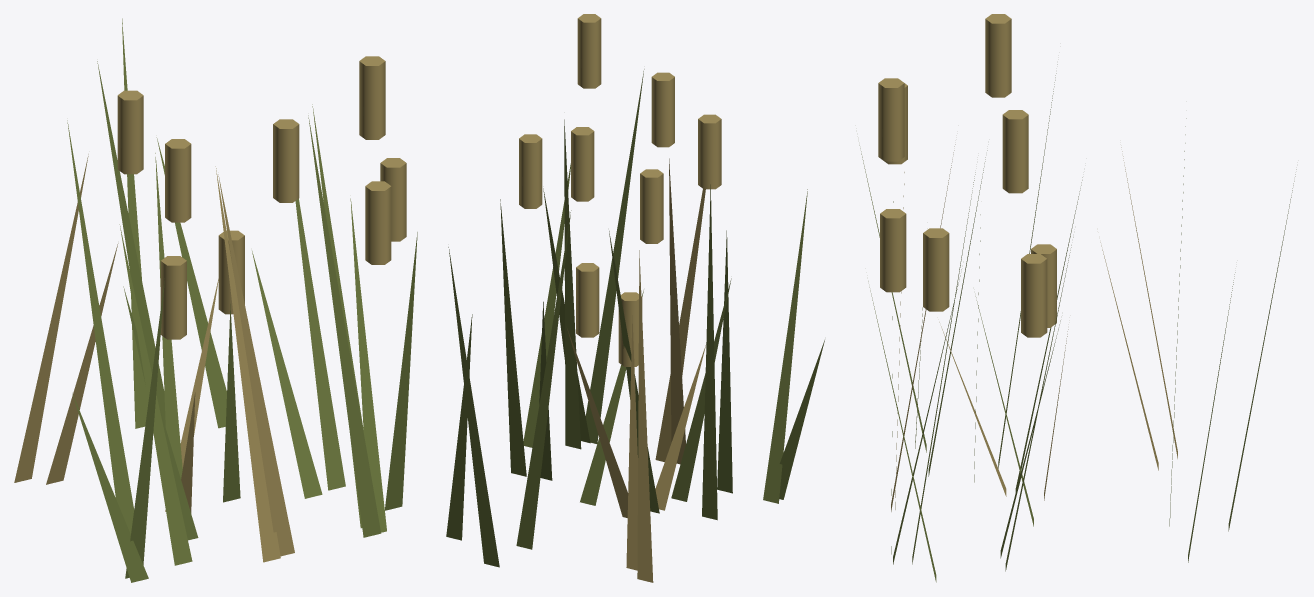
File: reeds.glb
3 views of the same model, side by side, from view 1: azimuth 30°, elevation 25°; view 2: azimuth 150°, elevation 25°; view 3: azimuth 270°, elevation 25° (orthographic). The views are drawn at different scales.
Visible parts, largest first — view 1: Meadow blades, Dry grass; view 2: Meadow blades, Dry grass; view 3: Dry grass, Meadow blades.
Part boxes in pixels (<box>): Meadow blades: <box>67,18,417,582</box>; Dry grass: <box>14,56,406,562</box>; Meadow blades: <box>446,69,824,567</box>; Dry grass: <box>519,14,721,582</box>; Dry grass: <box>878,14,1177,511</box>; Meadow blades: <box>859,64,1296,582</box>.
Size of the model in its own units: 1.33 by 1.8 by 1.53.
